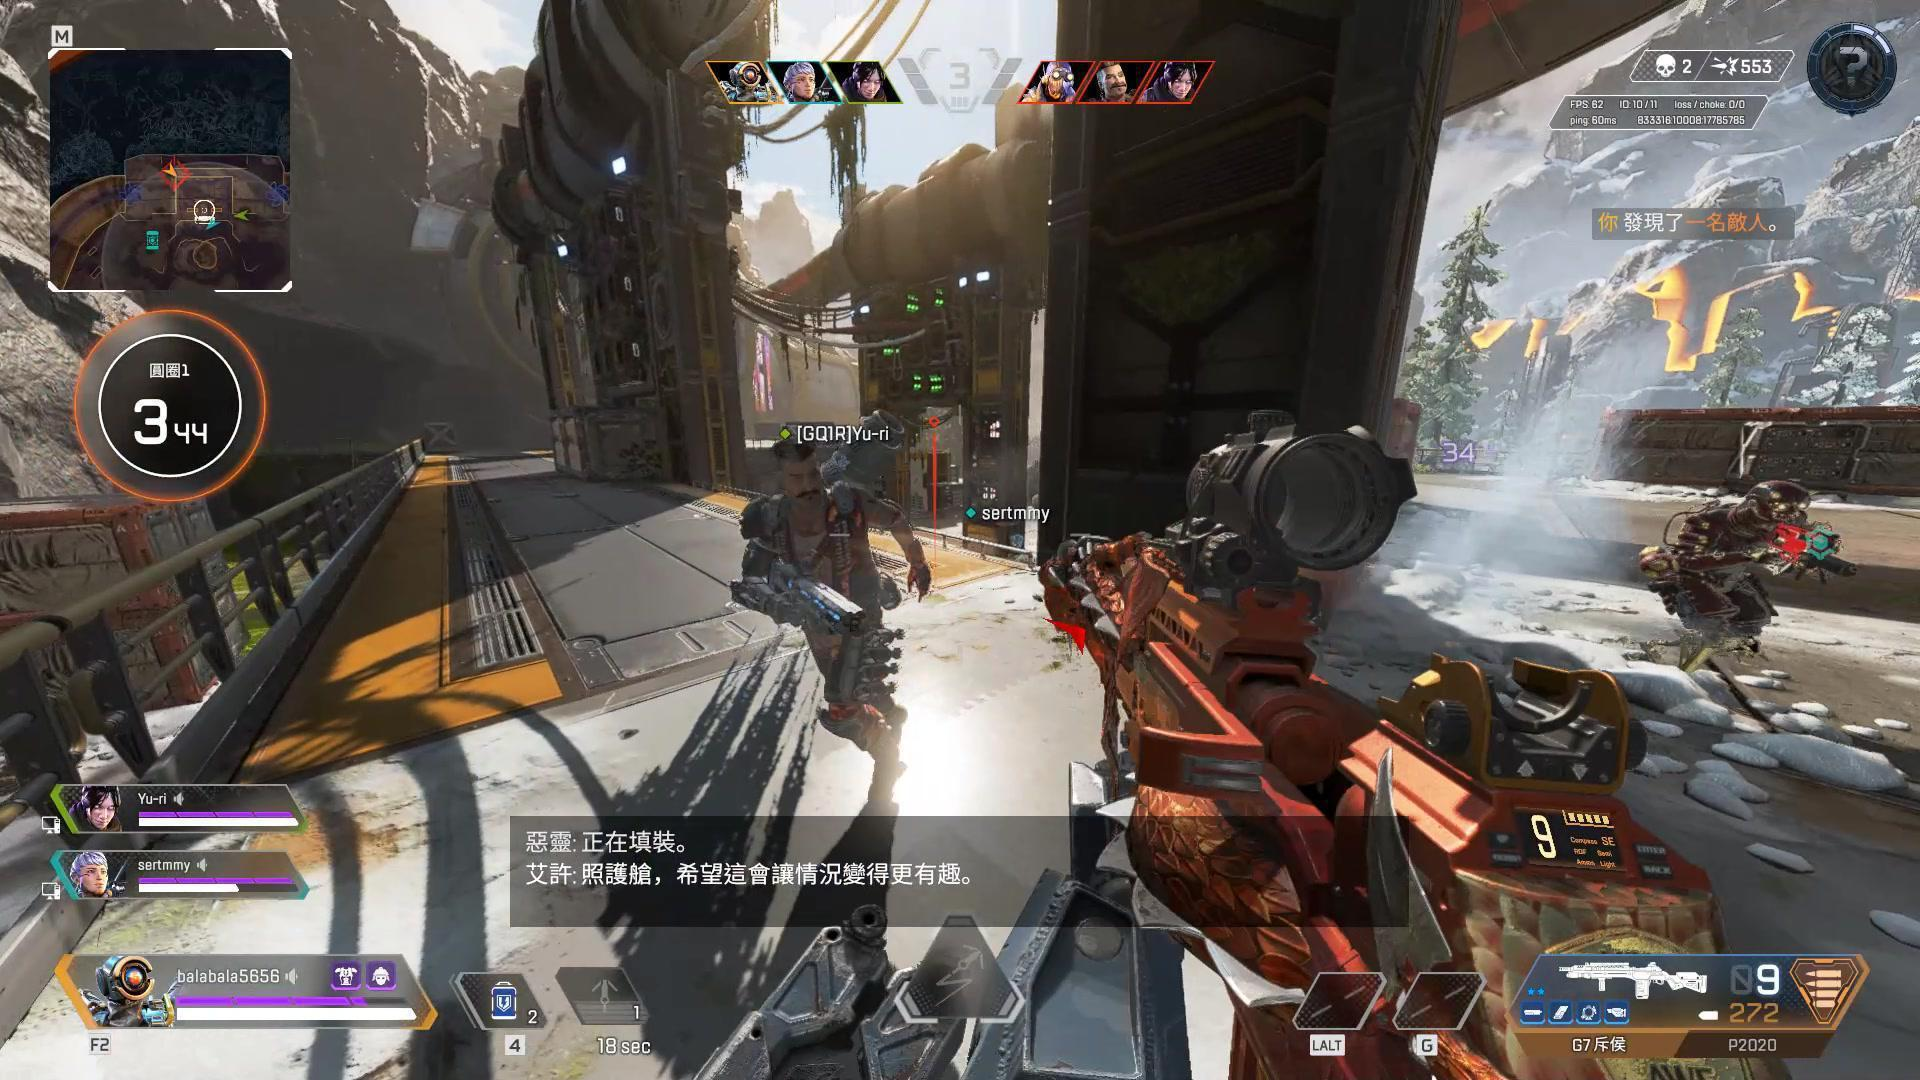avatar: (728, 437, 905, 816), (1638, 477, 1813, 675)
